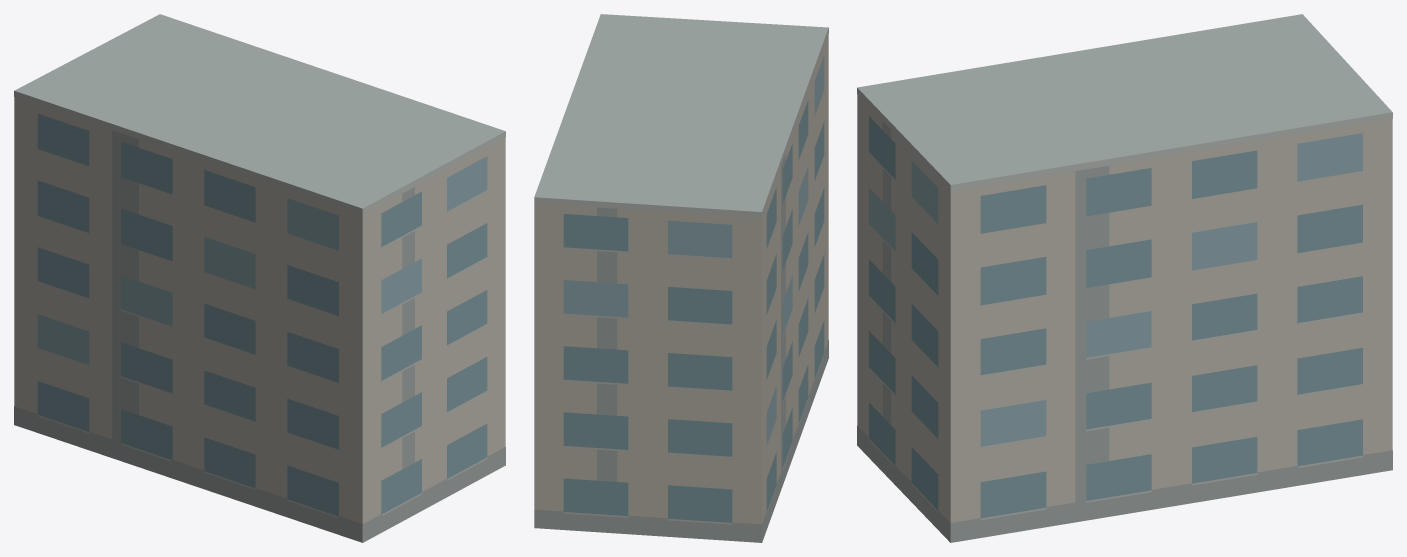
File: survey-upis-32885957.glb
The picture shows the model from 3 angles, left to right: view 1: azimuth 30°, elevation 25°; view 2: azimuth 150°, elevation 25°; view 3: azimuth 270°, elevation 25°; orthographic projection. The views are drawn at different scales.
Parts seen in each view (by area): view 1: survey-upis-32885957.tmp; view 2: survey-upis-32885957.tmp; view 3: survey-upis-32885957.tmp.
Boxes of the visible parts, x1,y1,x2,y2 form: survey-upis-32885957.tmp: [14, 14, 505, 542]; survey-upis-32885957.tmp: [534, 14, 828, 542]; survey-upis-32885957.tmp: [857, 14, 1392, 542].
Size of the model in its own units: 13.33 by 13 by 17.65.
